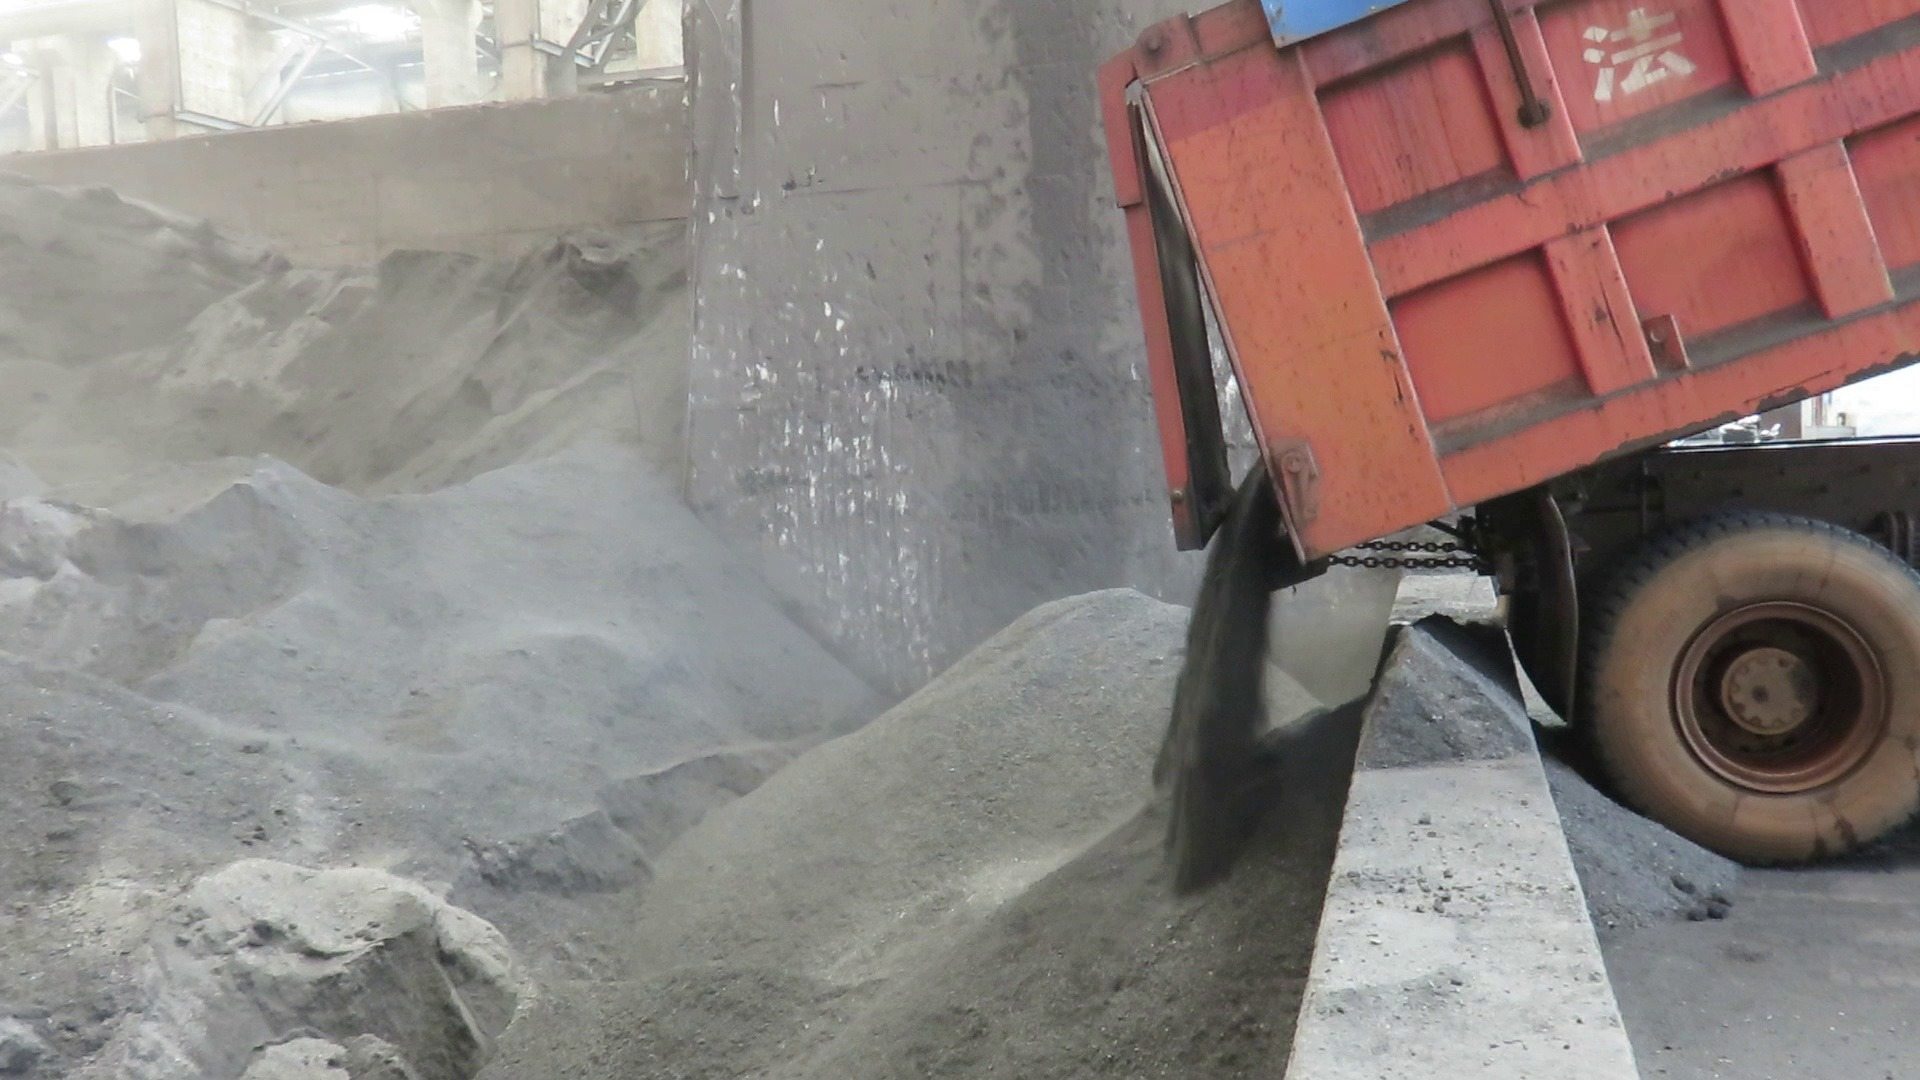dust: (15, 32, 1087, 872)
truck: (1038, 0, 1920, 918)
